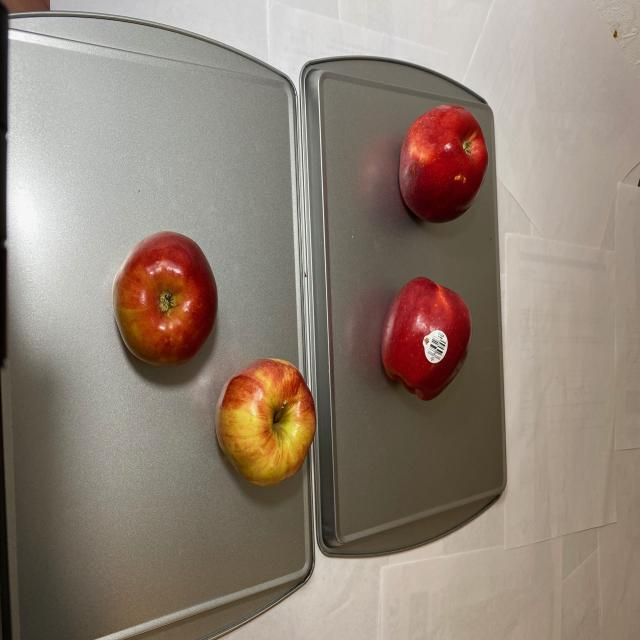apple: (111, 225, 316, 492), (374, 96, 489, 408)
